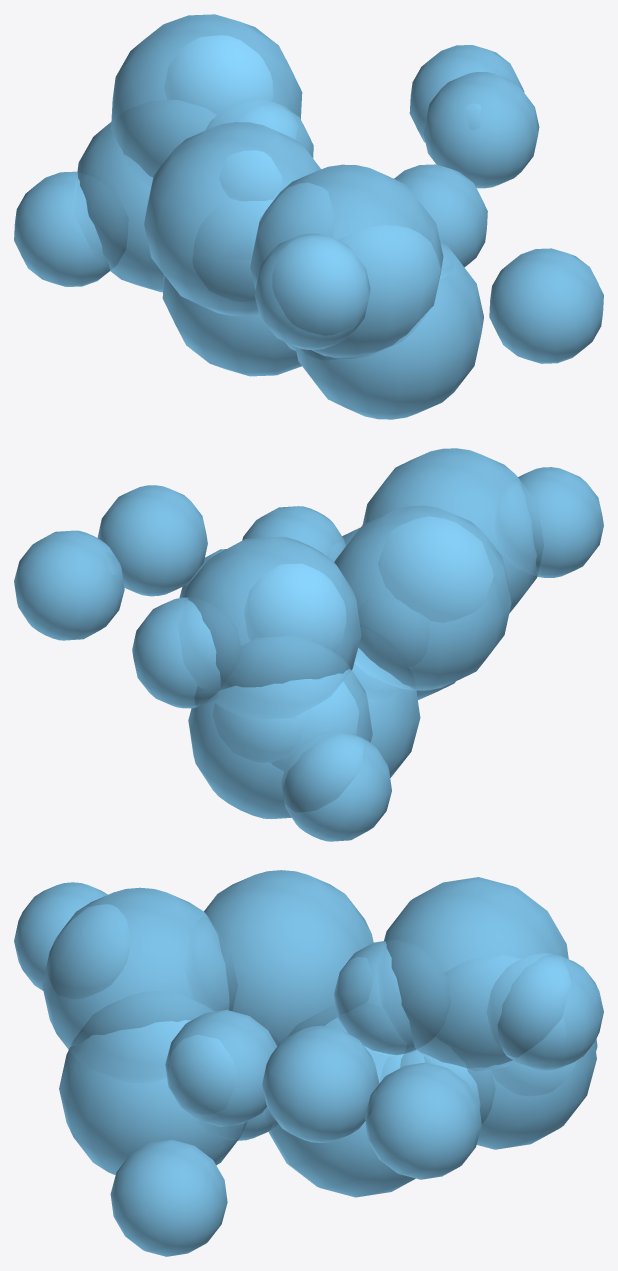
File: cloudparticle.dae
3 views of the same model, one above another, from view 1: azimuth 30°, elevation 25°; view 2: azimuth 150°, elevation 25°; view 3: azimuth 270°, elevation 25° (orthographic). The views are drawn at different scales.
Parts seen in each view (by area): view 1: instance_0 (×14); view 2: instance_0 (×15); view 3: instance_0 (×16).
Boxes of the visible parts, x1,y1,x2,y2 form: instance_0 (×14): (14, 14, 603, 419); instance_0 (×15): (14, 448, 603, 841); instance_0 (×16): (14, 870, 603, 1256).
Size of the model in its own units: 270 by 313 by 178.
